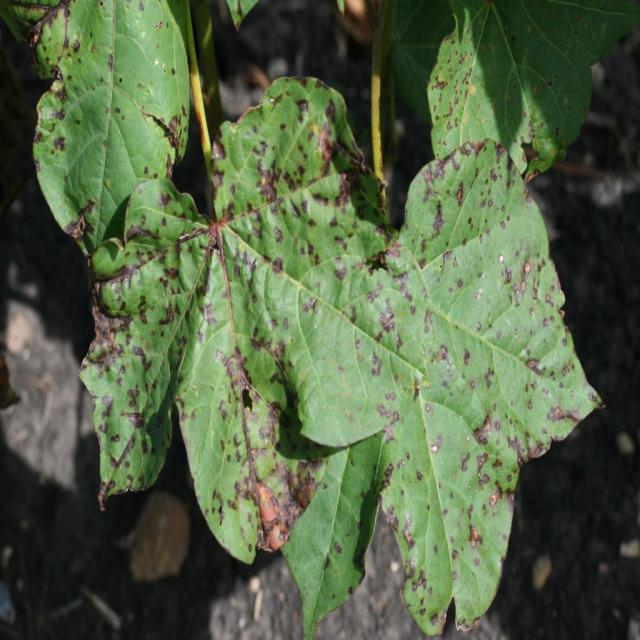Bacterial Blight: (100, 137, 350, 532)
